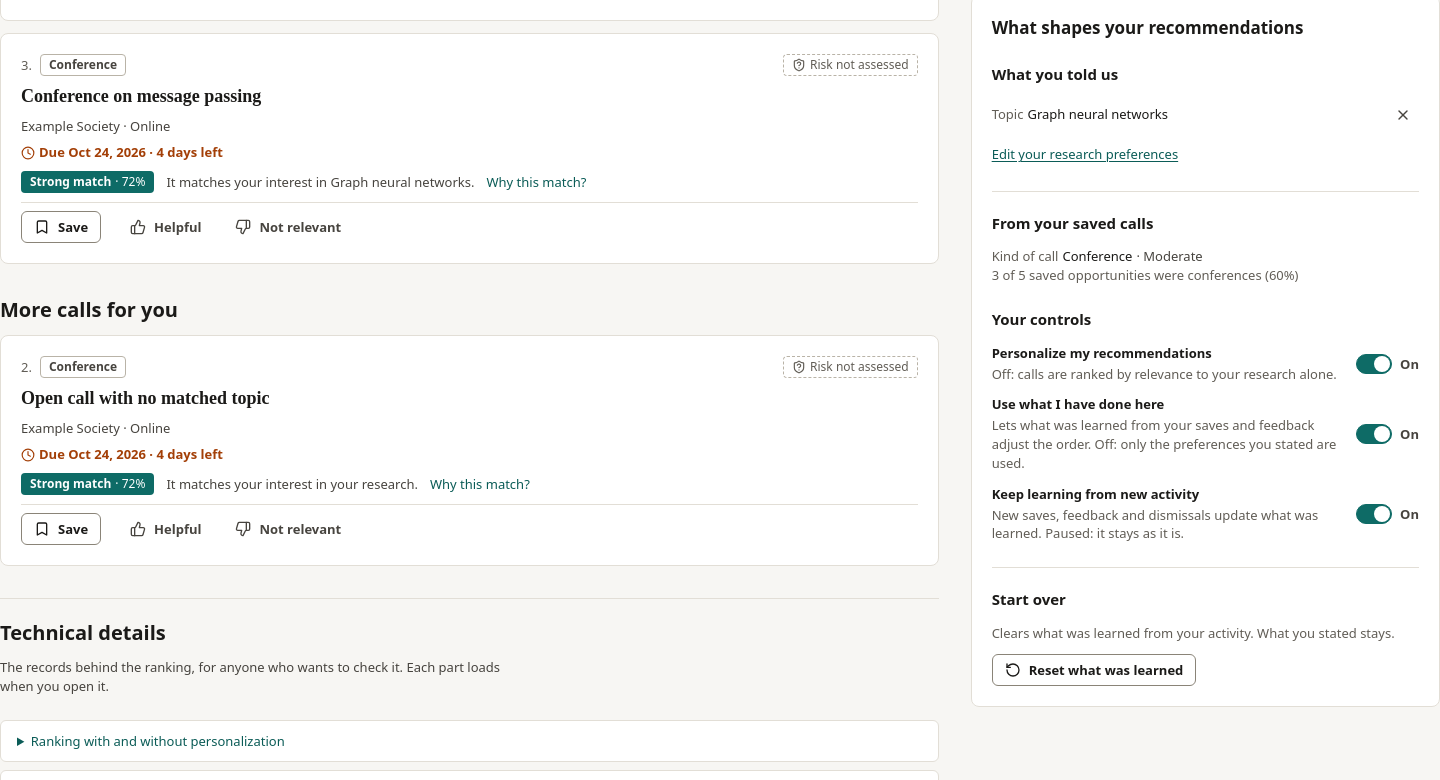
recommendations page › resets only after a confirmation that says what is kept
(page scrolled)
Step 1. Click the button "Reset what was learned" → click(1094, 670), box [992,654,1196,686]
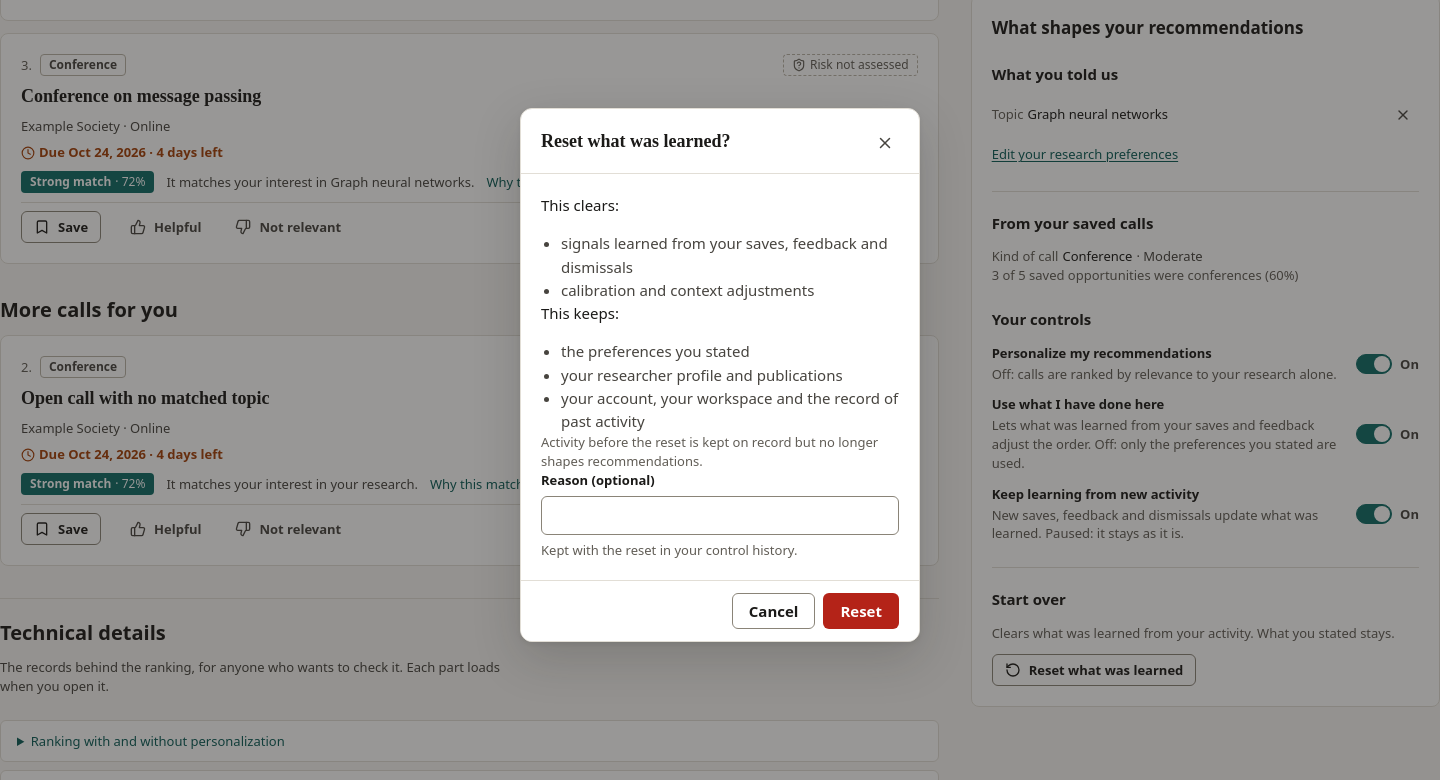
expect the dialog "Reset what was learned?" shows "the preferences you stated": met, box [561,341,750,361]
expect the dialog "Reset what was learned?" shows "your researcher profile and publications": met, box [561,365,843,385]
Step 2. Click the button "Cancel" → click(774, 611), box [732,593,815,629]
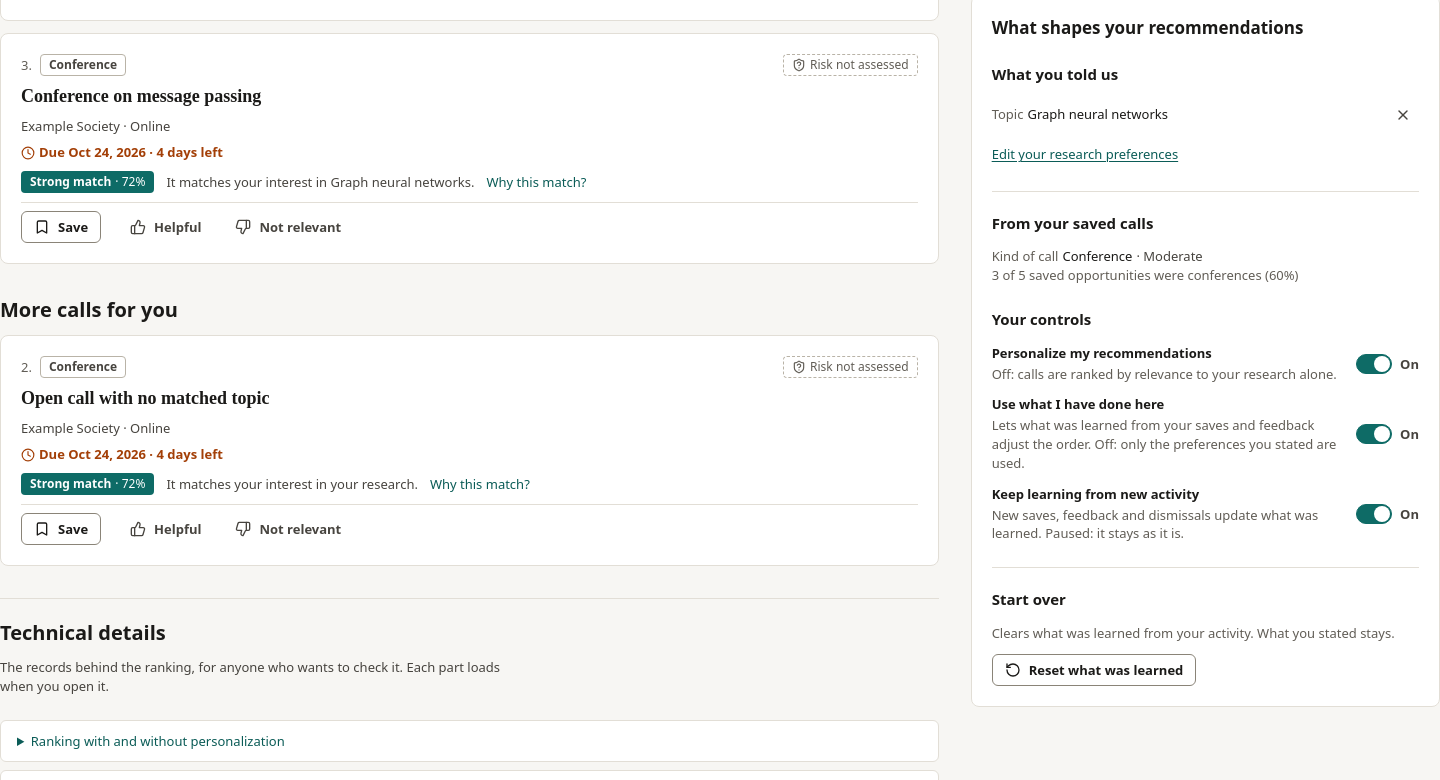
expect the dialog "Reset what was learned?" is not shown: met
Step 3. Click the button "Reset what was learned" → click(1094, 670), box [992,654,1196,686]
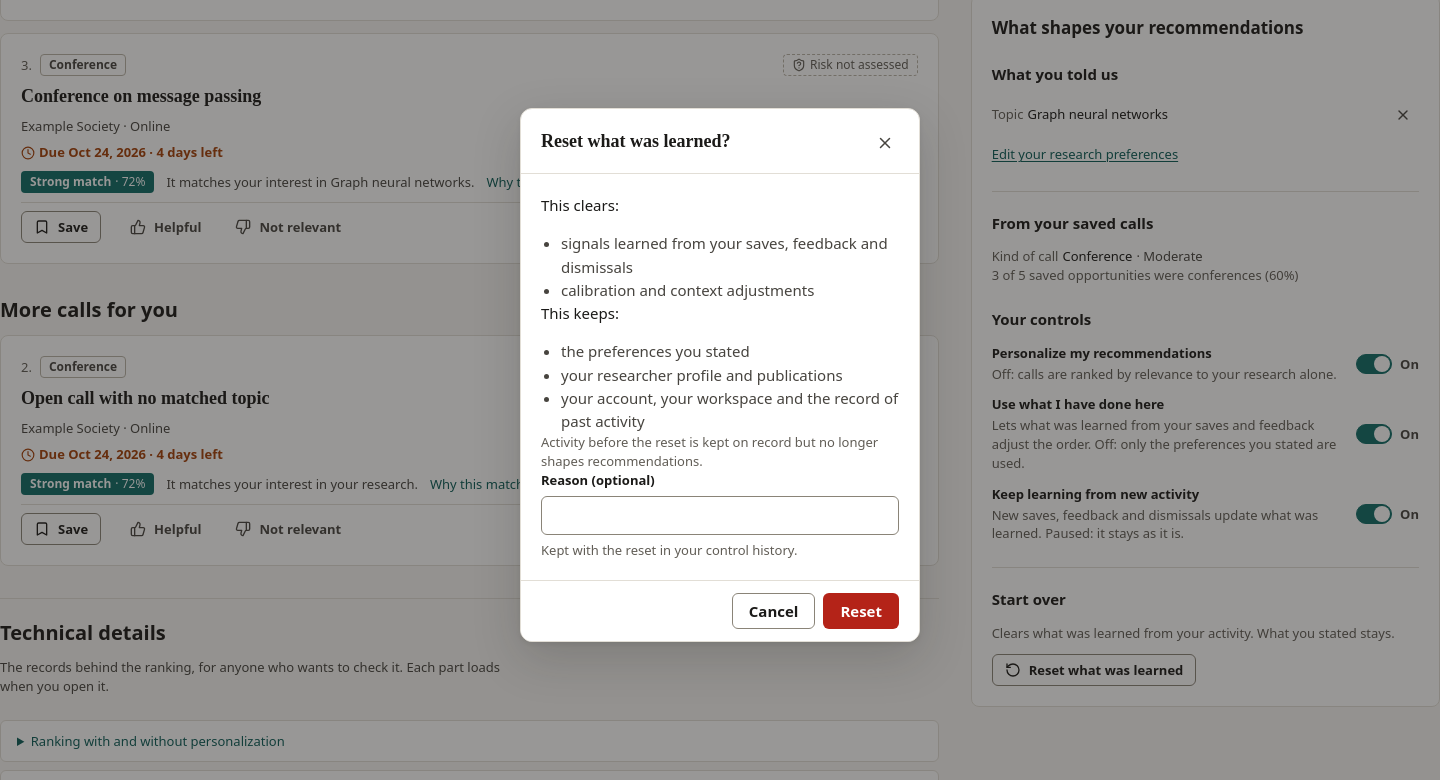
Step 4. Click the button "Reset" → click(861, 611), box [823,593,899,629]
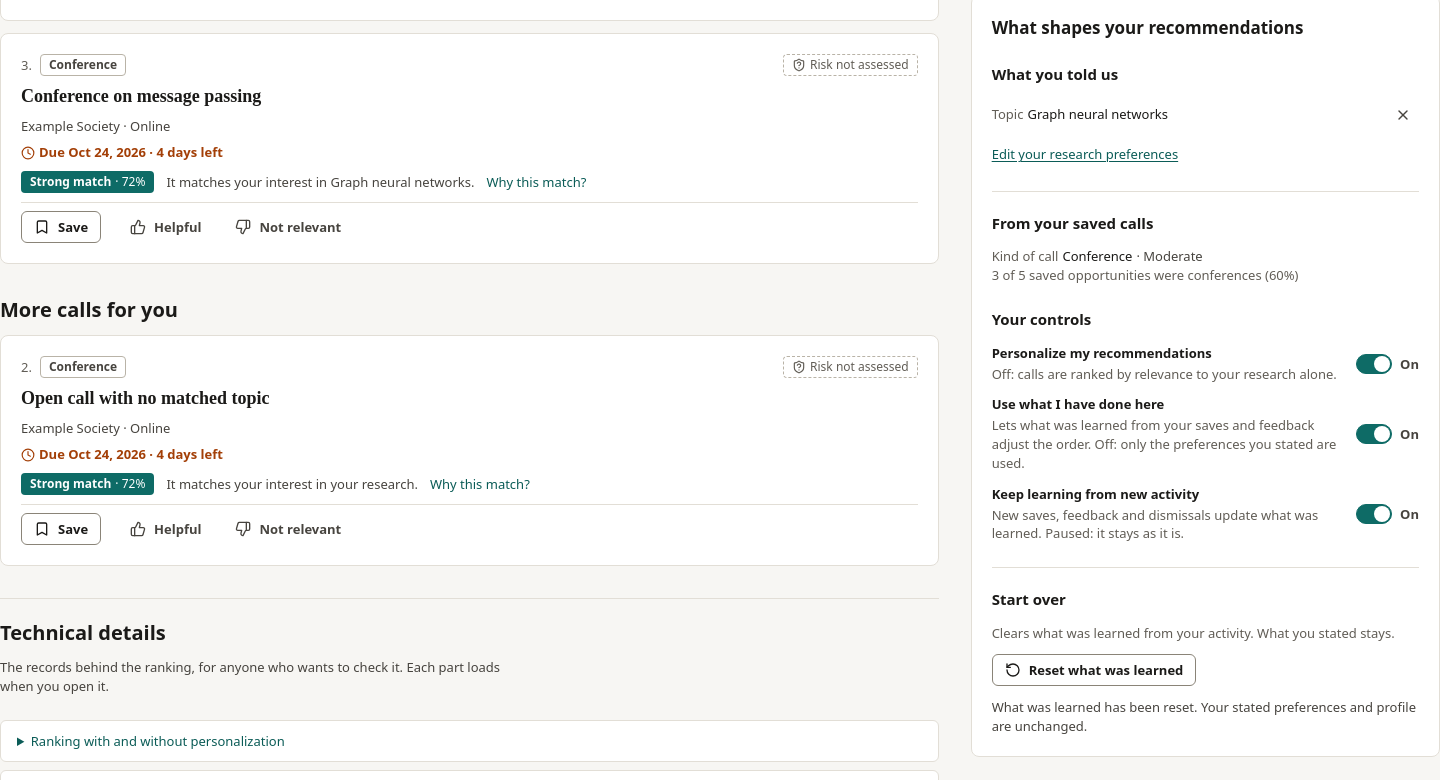
expect the text "Your stated preferences and profile are unchanged" is shown: met, box [992,698,1416,735]
